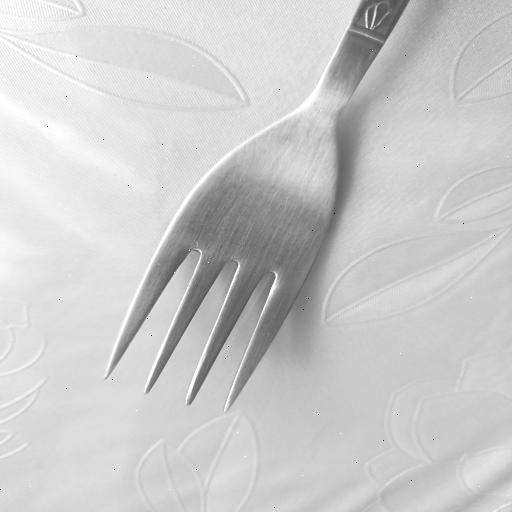fork: (98, 0, 410, 413)
